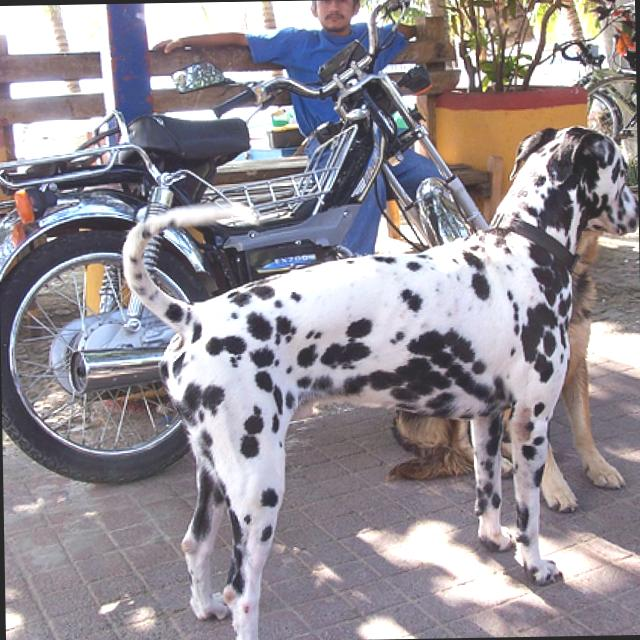Vehicle: (0, 0, 494, 491)
